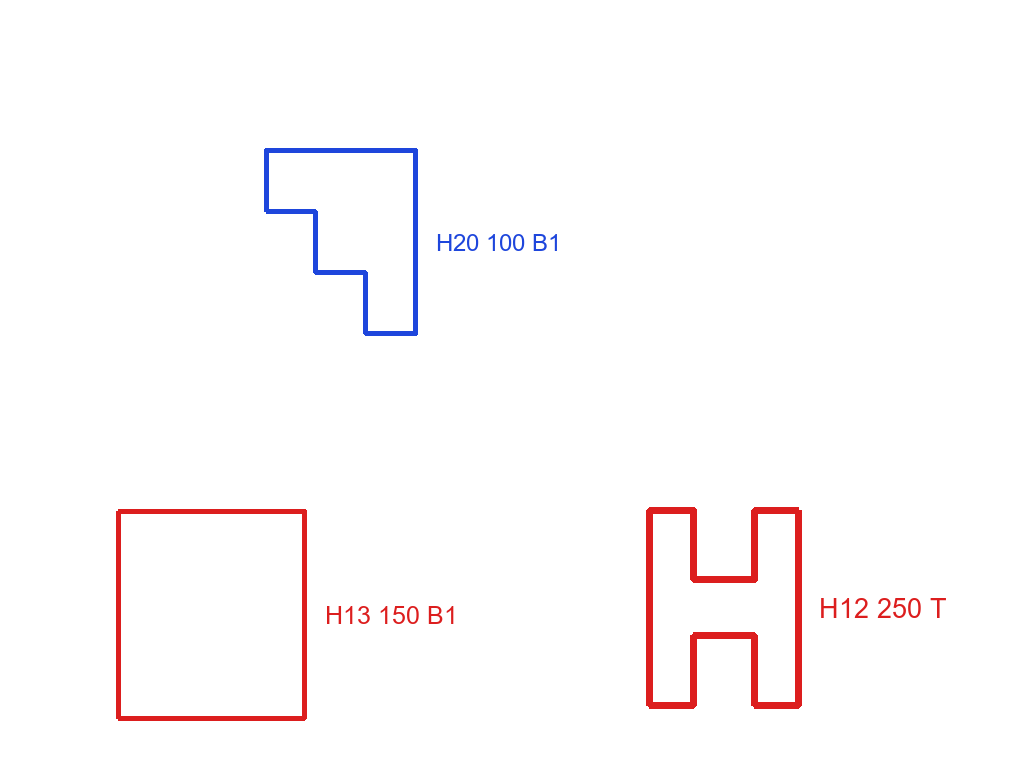shape: (114, 507, 309, 723), (644, 505, 804, 711), (262, 146, 420, 338)
text: (817, 596, 949, 620), (323, 604, 460, 626), (434, 232, 563, 253)
